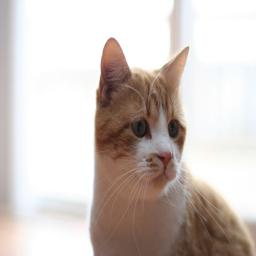catnose: (158, 148, 173, 171)
